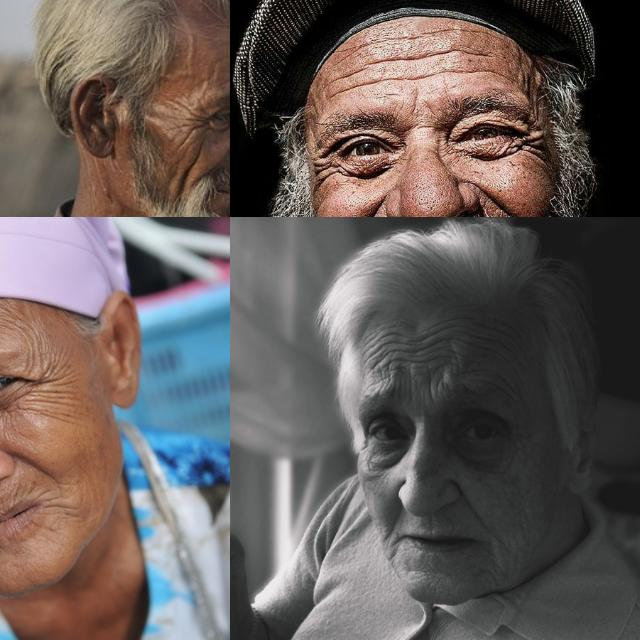chin: (47, 494, 79, 518), (486, 561, 504, 585)
crows_feet: (29, 361, 60, 401), (517, 125, 547, 159), (312, 151, 340, 185), (177, 108, 205, 140)
forehead: (440, 58, 494, 84), (326, 66, 376, 94), (421, 21, 472, 43), (351, 30, 405, 50), (434, 42, 484, 62), (453, 318, 481, 352), (384, 46, 428, 66), (367, 339, 388, 379), (423, 324, 445, 361), (495, 370, 519, 402), (394, 331, 416, 362)
frown_line: (406, 89, 426, 118), (402, 367, 416, 398), (424, 377, 438, 401)
gummy_smile: (478, 182, 516, 214), (458, 494, 488, 530), (12, 448, 50, 476), (352, 199, 386, 217), (383, 514, 401, 540)
masseter: (172, 154, 194, 200)
smoker_lines: (6, 484, 40, 501)
